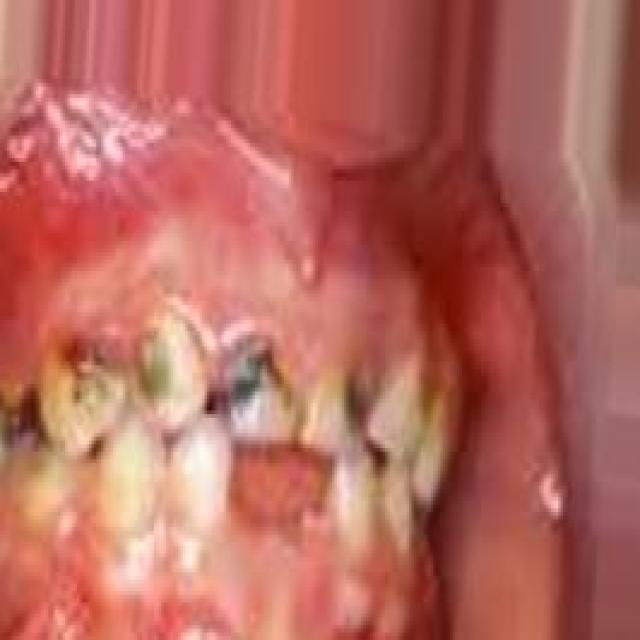caries: (38, 325, 126, 454), (131, 305, 214, 436), (224, 332, 300, 456), (306, 359, 372, 463)
